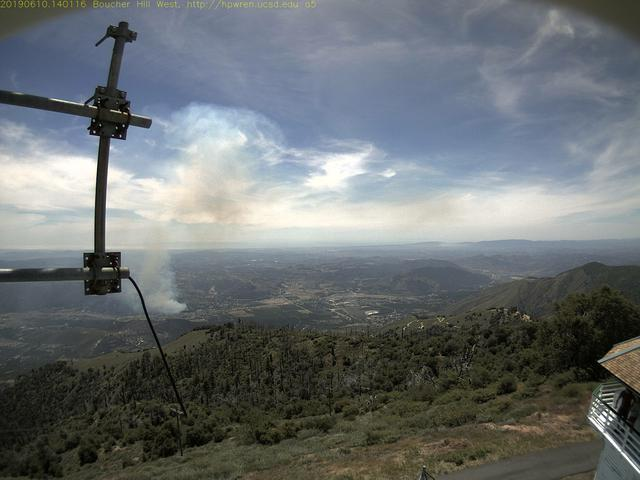smoke: (118, 102, 288, 323)
